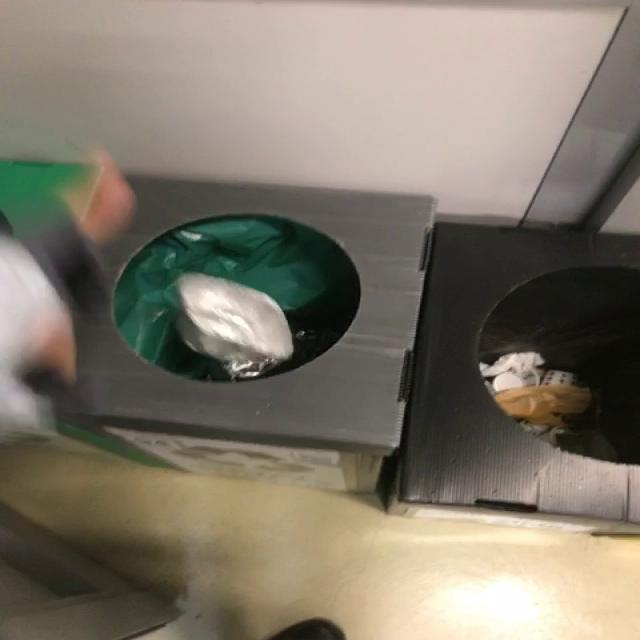metal: (176, 273, 295, 380)
